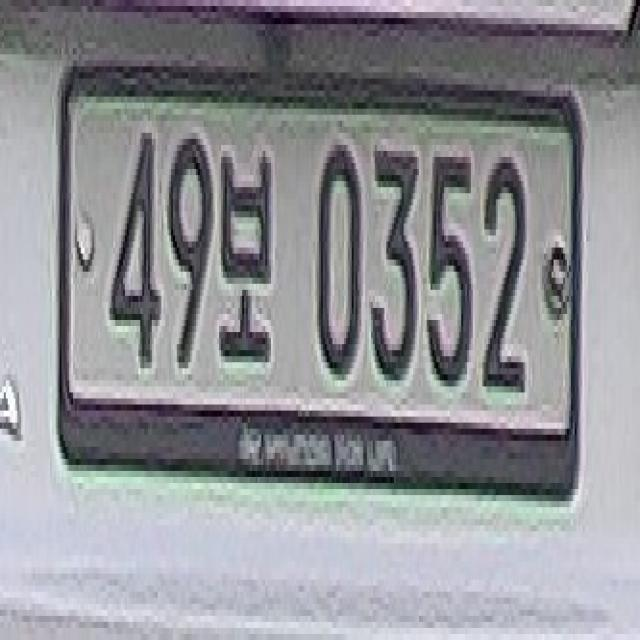0: (317, 142, 363, 390)
2: (480, 126, 532, 398)
3: (370, 131, 420, 400)
4: (102, 130, 164, 378)
5: (422, 133, 478, 404)
9: (169, 128, 214, 382)
bo: (218, 135, 282, 383)
license_plate: (39, 48, 594, 547)
